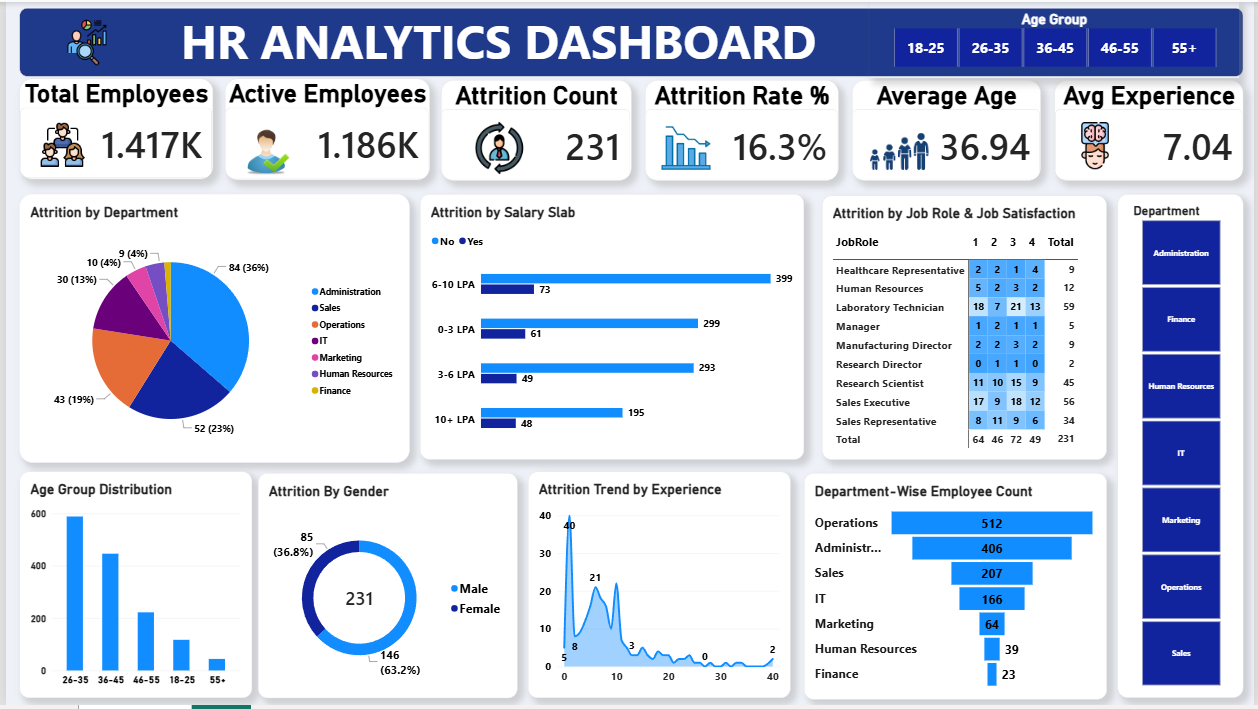

The dashboard page shown, as its layout file describes it:
{"tool":"powerbi","page":{"name":"Page 1","canvas":[1920,1080],"ordinal":0},"visuals":[{"type":"textbox","title":".....","box":[20,10,1880,105],"z":0},{"type":"cardVisual","title":"Total Employees","fields":{"Data":["CountNonNull(HR_Analytics-4.EmpID)"]},"box":[20,117.5,297.3,154.4],"z":1000},{"type":"cardVisual","title":"Attrition Count","fields":{"Data":["Sum(HR_Analytics-4.AttritionCount)"]},"box":[667.5,120,292.7,154.4],"z":2000},{"type":"cardVisual","title":"Attrition Rate %","fields":{"Data":["HR_Analytics-4.Attrition Rate %"]},"box":[982.5,120,297.3,154.4],"z":3000},{"type":"cardVisual","title":"Average Age","fields":{"Data":["Avg(HR_Analytics-4.Age)"]},"box":[1300,120,290,154.4],"z":4000},{"type":"cardVisual","title":"Avg Experience","fields":{"Data":["Avg(HR_Analytics-4.YearsatCompany)"]},"box":[1610,120,290,154.4],"z":5000},{"type":"cardVisual","title":"Active Employees","fields":{"Data":["CountNonNull(HR_Analytics-4.EmployeeCount)"]},"box":[337.5,117.5,314.6,155.9],"z":6000},{"type":"image","box":[20,185,132.5,70],"z":7000},{"type":"image","box":[355,195,90,70],"z":8000},{"type":"image","box":[700,185,115,80],"z":9000},{"type":"image","box":[1007.5,185,75,80],"z":10000},{"type":"image","box":[1327.5,197.5,90,70],"z":11000},{"type":"image","box":[1610,185,125,72.5],"z":12000},{"type":"donutChart","title":"Attrition by Department","fields":{"Category":["HR_Analytics-4.Department"],"Y":["Sum(HR_Analytics-4.AttritionCount)"]},"box":[20.7,295,599.2,412.5],"z":13000},{"type":"clusteredBarChart","title":"Attrition by Salary Slab","fields":{"Category":["HR_Analytics-4.SalarySlab"],"Series":["HR_Analytics-4.Attrition"],"Y":["CountNonNull(HR_Analytics-4.EmpID)"]},"box":[636,295,589.9,407.9],"z":14000},{"type":"pivotTable","title":"Attrition by Job Role & Job Satisfaction","fields":{"Columns":["HR_Analytics-4.JobSatisfaction"],"Rows":["HR_Analytics-4.JobRole"],"Values":["Sum(HR_Analytics-4.AttritionCount)"]},"box":[1253.5,297.8,437.3,406],"z":15000},{"type":"columnChart","title":"Age Group Distribution","fields":{"Category":["HR_Analytics-4.AgeGroup"],"Y":["Sum(HR_Analytics-4.EmployeeCount)"]},"box":[20.7,721.3,357.2,348],"z":16000},{"type":"donutChart","title":"Attrition By Gender","fields":{"Category":["HR_Analytics-4.Gender"],"Y":["Sum(HR_Analytics-4.AttritionCount)"]},"box":[387.1,723.6,398.7,345.7],"z":17000},{"type":"areaChart","title":"Attrition Trend by Experience","fields":{"Category":["HR_Analytics-4.TotalExperience(Years)"],"Y":["Sum(HR_Analytics-4.AttritionCount)"]},"box":[802,721.3,403.3,348],"z":18000},{"type":"funnel","title":"Department-Wise Employee Count","fields":{"Category":["HR_Analytics-4.Department"],"Y":["CountNonNull(HR_Analytics-4.EmpID)"]},"box":[1226,723.6,465.5,348],"z":19000},{"type":"slicer","fields":{"Values":["HR_Analytics-4.Department"]},"box":[1707.6,295,193.6,774.3],"z":20000},{"type":"slicer","title":"Age Group","fields":{"Values":["HR_Analytics-4.AgeGroup"]},"box":[1327.4,0,566.9,117.5],"z":21000},{"type":"image","box":[48.4,25.3,152.1,73.7],"z":21001}]}

Visuals, with their boxes in screenshot pixels (x1, y1, x2, y2), scaled from the page's 1920x1080 canvas onto the 1258x709 screenshot:
"....." textbox: 13, 7, 1245, 75
"Total Employees" cardVisual: 13, 77, 208, 178
"Attrition Count" cardVisual: 437, 79, 629, 180
"Attrition Rate %" cardVisual: 644, 79, 839, 180
"Average Age" cardVisual: 852, 79, 1042, 180
"Avg Experience" cardVisual: 1055, 79, 1245, 180
"Active Employees" cardVisual: 221, 77, 427, 179
image: 13, 121, 100, 167
image: 233, 128, 292, 174
image: 459, 121, 534, 174
image: 660, 121, 709, 174
image: 870, 130, 929, 176
image: 1055, 121, 1137, 169
"Attrition by Department" donutChart: 14, 194, 406, 464
"Attrition by Salary Slab" clusteredBarChart: 417, 194, 803, 461
"Attrition by Job Role & Job Satisfaction" pivotTable: 821, 196, 1108, 462
"Age Group Distribution" columnChart: 14, 474, 248, 702
"Attrition By Gender" donutChart: 254, 475, 515, 702
"Attrition Trend by Experience" areaChart: 525, 474, 790, 702
"Department-Wise Employee Count" funnel: 803, 475, 1108, 703
slicer - HR_Analytics-4.Department: 1119, 194, 1246, 702
"Age Group" slicer: 870, 0, 1241, 77
image: 32, 17, 131, 65
